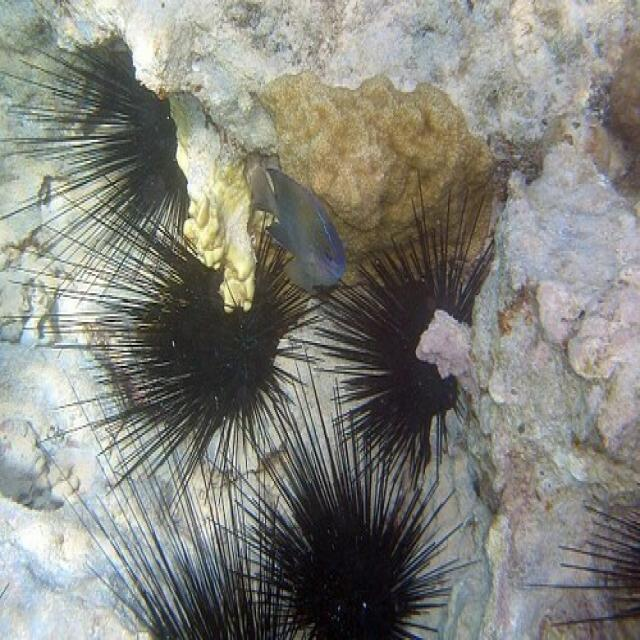Urchin: (30, 196, 318, 494), (212, 352, 482, 640), (69, 383, 303, 640), (316, 184, 490, 489), (1, 40, 197, 261)
